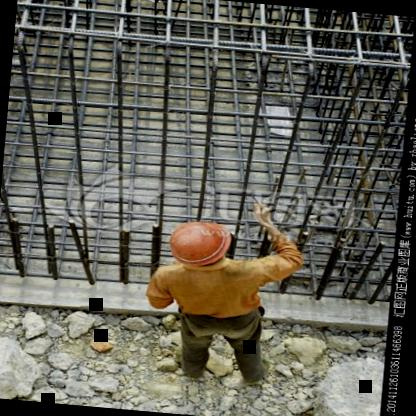helmet: (161, 216, 237, 270)
